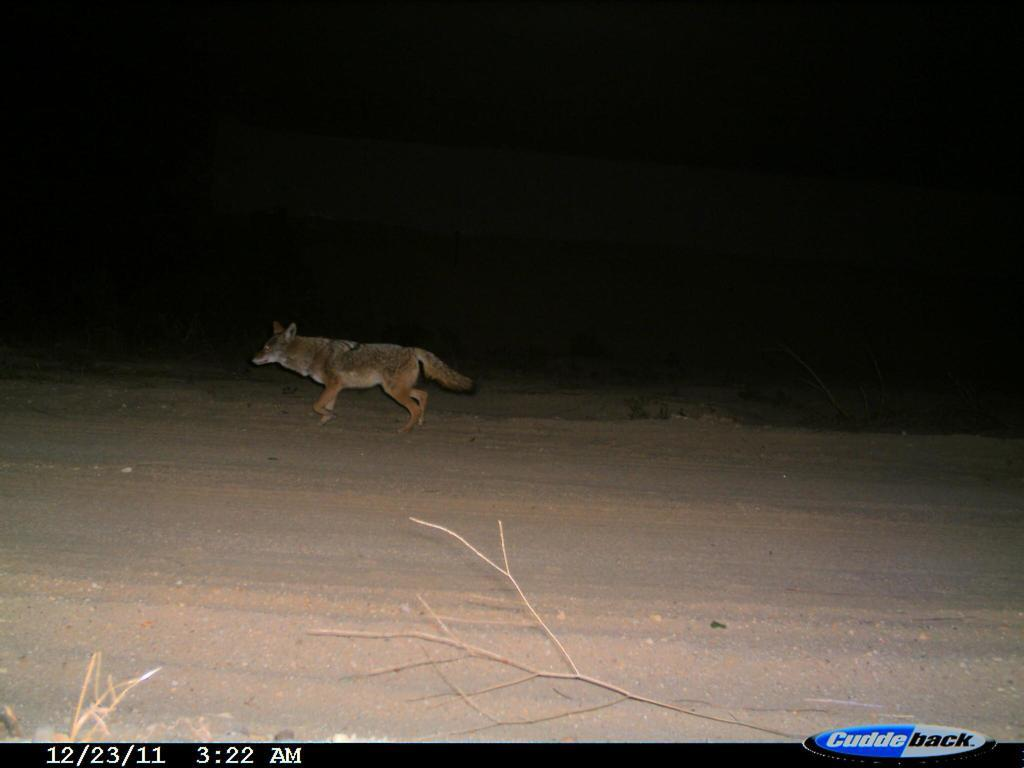coyote: (245, 315, 475, 442)
